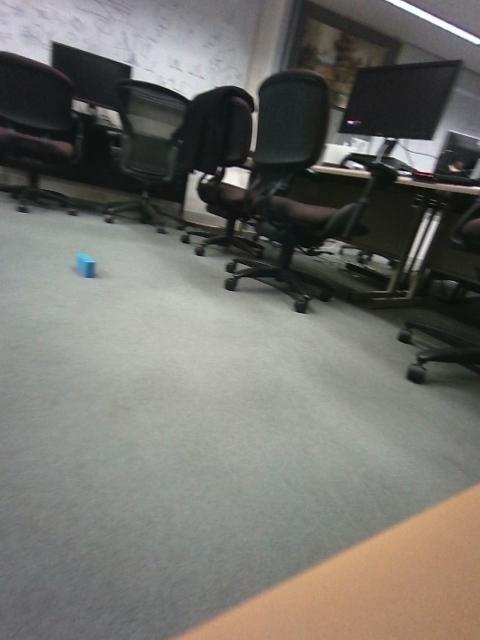block: (180, 335, 246, 380)
